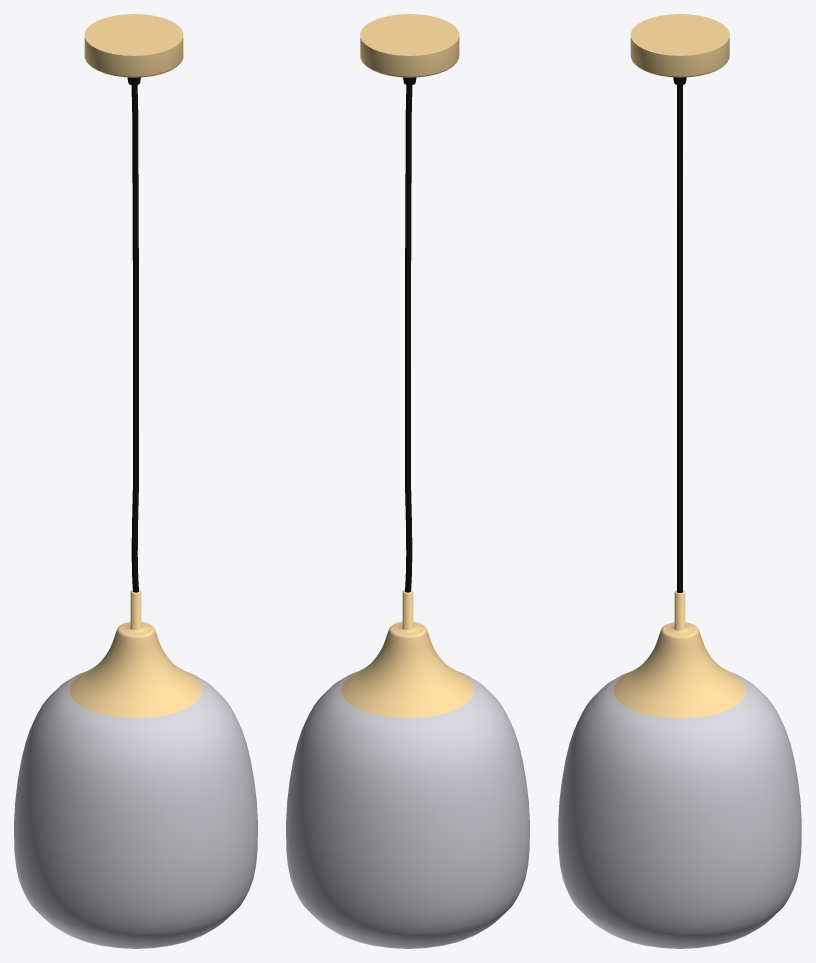
File: pendant_glass_brass.glb
3 renders of one model, left to right at view 1: azimuth 30°, elevation 25°; view 2: azimuth 150°, elevation 25°; view 3: azimuth 270°, elevation 25°, orthographic.
Parts seen in each view (by area): view 1: Temple Pendant Light and 002 Plumen Bulb_GLASS_0, Temple Pendant Light and 002 Plumen Bulb_BRASS_0, Temple Pendant Light and 002 Plumen Bulb_BLACK_PLASTIC_0; view 2: Temple Pendant Light and 002 Plumen Bulb_GLASS_0, Temple Pendant Light and 002 Plumen Bulb_BRASS_0, Temple Pendant Light and 002 Plumen Bulb_BLACK_PLASTIC_0; view 3: Temple Pendant Light and 002 Plumen Bulb_GLASS_0, Temple Pendant Light and 002 Plumen Bulb_BRASS_0, Temple Pendant Light and 002 Plumen Bulb_BLACK_PLASTIC_0.
Boxes of the visible parts, bbox=[...] form: Temple Pendant Light and 002 Plumen Bulb_GLASS_0: bbox=[14, 671, 257, 948]; Temple Pendant Light and 002 Plumen Bulb_BRASS_0: bbox=[70, 14, 202, 718]; Temple Pendant Light and 002 Plumen Bulb_BLACK_PLASTIC_0: bbox=[127, 77, 140, 592]; Temple Pendant Light and 002 Plumen Bulb_GLASS_0: bbox=[286, 671, 529, 948]; Temple Pendant Light and 002 Plumen Bulb_BRASS_0: bbox=[341, 14, 473, 718]; Temple Pendant Light and 002 Plumen Bulb_BLACK_PLASTIC_0: bbox=[403, 77, 416, 592]; Temple Pendant Light and 002 Plumen Bulb_GLASS_0: bbox=[558, 672, 801, 948]; Temple Pendant Light and 002 Plumen Bulb_BRASS_0: bbox=[614, 14, 745, 718]; Temple Pendant Light and 002 Plumen Bulb_BLACK_PLASTIC_0: bbox=[673, 77, 686, 592].
Size of the model in its own units: 0.2286 by 0.9107 by 0.2273.
